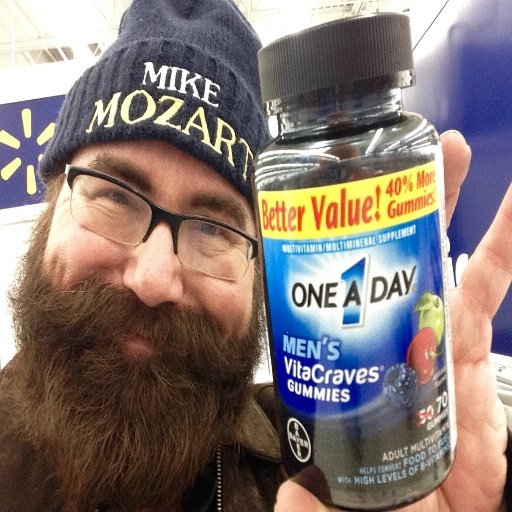hand: (273, 129, 511, 510)
